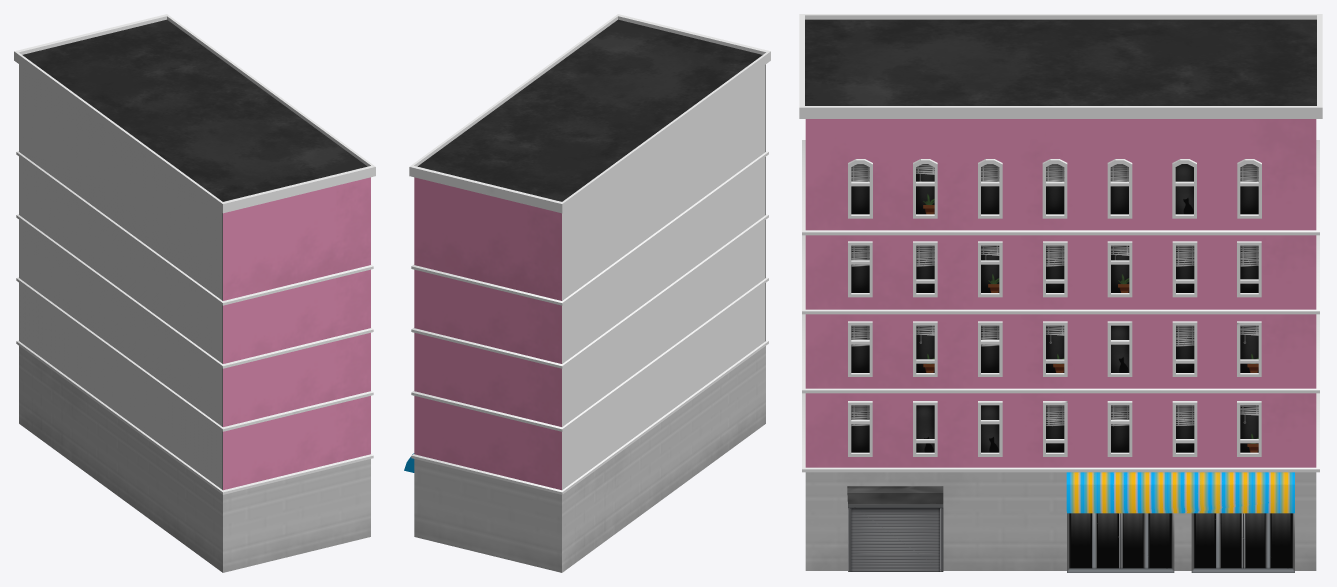
Rendered from House_05.FBX.
The picture shows the model from 3 angles, left to right: view 1: azimuth 30°, elevation 25°; view 2: azimuth 150°, elevation 25°; view 3: azimuth 270°, elevation 25°; orthographic projection. The views are drawn at different scales.
Parts seen in each view (by area): view 1: Box113; view 2: Box113; view 3: Box113.
Part boxes in pixels (bbox=[...]): Box113: bbox=[14, 14, 375, 572]; Box113: bbox=[404, 14, 770, 572]; Box113: bbox=[799, 14, 1322, 572].
Size of the model in its own units: 164 by 344 by 351.
